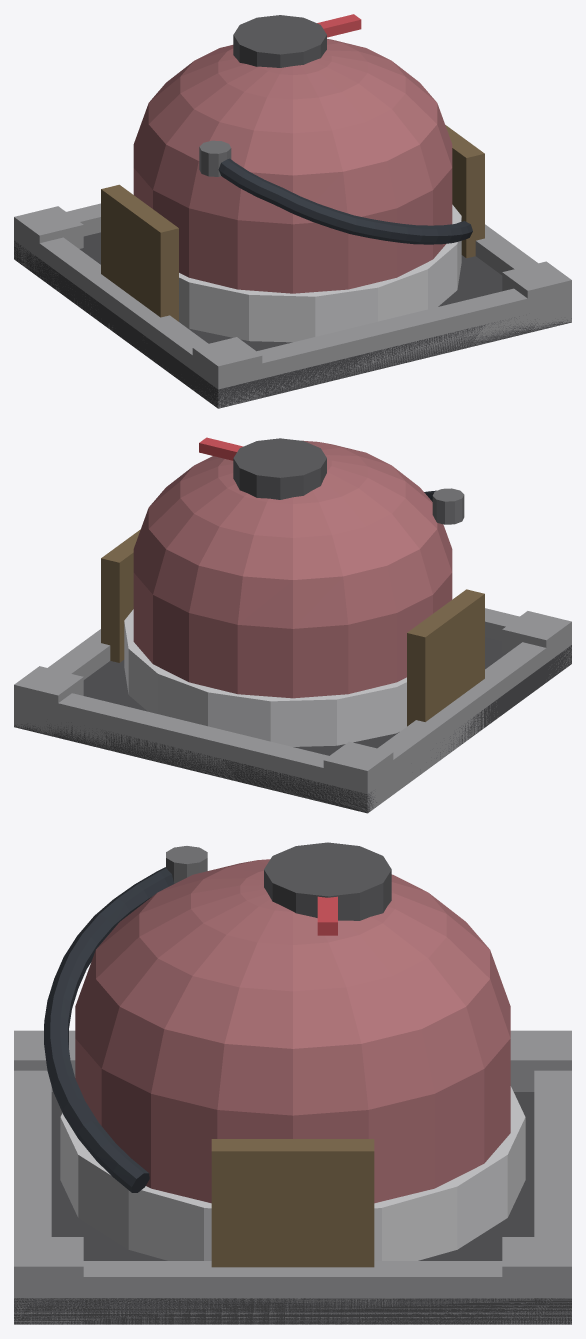
File: vge_e_algae_oxygenator.obj
The picture shows the model from 3 angles, top to bottom: view 1: azimuth 30°, elevation 25°; view 2: azimuth 150°, elevation 25°; view 3: azimuth 270°, elevation 25°; orthographic projection. The views are drawn at different scales.
Parts seen in each view (by area): view 1: vge_life_support_12, vge_life_support_1, vge_life_support_11, vge_life_support_0, vge_life_support_9, vge_life_support_3, vge_life_support_15, vge_life_support_13, vge_life_support_10, vge_life_support_5, vge_life_support_6, vge_life_support_7 (+4 smaller); view 2: vge_life_support_12, vge_life_support_2, vge_life_support_11, vge_life_support_0, vge_life_support_9, vge_life_support_3, vge_life_support_13, vge_life_support_10, vge_life_support_5, vge_life_support_6, vge_life_support_8, vge_life_support_4 (+3 smaller); view 3: vge_life_support_12, vge_life_support_4, vge_life_support_0, vge_life_support_10, vge_life_support_11, vge_life_support_15, vge_life_support_13, vge_life_support_1, vge_life_support_2, vge_life_support_7, vge_life_support_8, vge_life_support_6 (+3 smaller).
Part boxes in pixels (bbox=[...]): vge_life_support_12: bbox=[133, 39, 452, 293]; vge_life_support_1: bbox=[204, 288, 571, 408]; vge_life_support_11: bbox=[179, 204, 461, 342]; vge_life_support_0: bbox=[14, 232, 571, 408]; vge_life_support_9: bbox=[101, 184, 178, 321]; vge_life_support_3: bbox=[27, 235, 208, 394]; vge_life_support_15: bbox=[218, 158, 472, 244]; vge_life_support_13: bbox=[233, 15, 326, 67]; vge_life_support_10: bbox=[445, 125, 484, 258]; vge_life_support_5: bbox=[192, 337, 262, 407]; vge_life_support_6: bbox=[14, 206, 83, 274]; vge_life_support_7: bbox=[502, 261, 571, 322]; vge_life_support_12: bbox=[133, 440, 452, 698]; vge_life_support_2: bbox=[14, 692, 381, 812]; vge_life_support_11: bbox=[124, 609, 406, 746]; vge_life_support_0: bbox=[14, 637, 571, 813]; vge_life_support_9: bbox=[407, 589, 484, 726]; vge_life_support_3: bbox=[377, 642, 546, 802]; vge_life_support_13: bbox=[233, 438, 326, 499]; vge_life_support_10: bbox=[101, 529, 140, 662]; vge_life_support_5: bbox=[502, 611, 571, 676]; vge_life_support_6: bbox=[323, 741, 393, 812]; vge_life_support_8: bbox=[14, 666, 83, 735]; vge_life_support_4: bbox=[48, 629, 110, 679]; vge_life_support_12: bbox=[75, 859, 510, 1203]; vge_life_support_4: bbox=[51, 1261, 534, 1324]; vge_life_support_0: bbox=[14, 1092, 571, 1324]; vge_life_support_10: bbox=[211, 1139, 374, 1267]; vge_life_support_11: bbox=[60, 1086, 525, 1260]; vge_life_support_15: bbox=[44, 867, 174, 1192]; vge_life_support_13: bbox=[264, 842, 391, 920]; vge_life_support_1: bbox=[14, 1070, 51, 1324]; vge_life_support_2: bbox=[534, 1070, 571, 1324]; vge_life_support_7: bbox=[14, 1237, 83, 1323]; vge_life_support_8: bbox=[502, 1237, 571, 1324]; vge_life_support_6: bbox=[510, 1030, 571, 1091].
Size of the model in its own units: 1.92 by 1.28 by 1.92.
